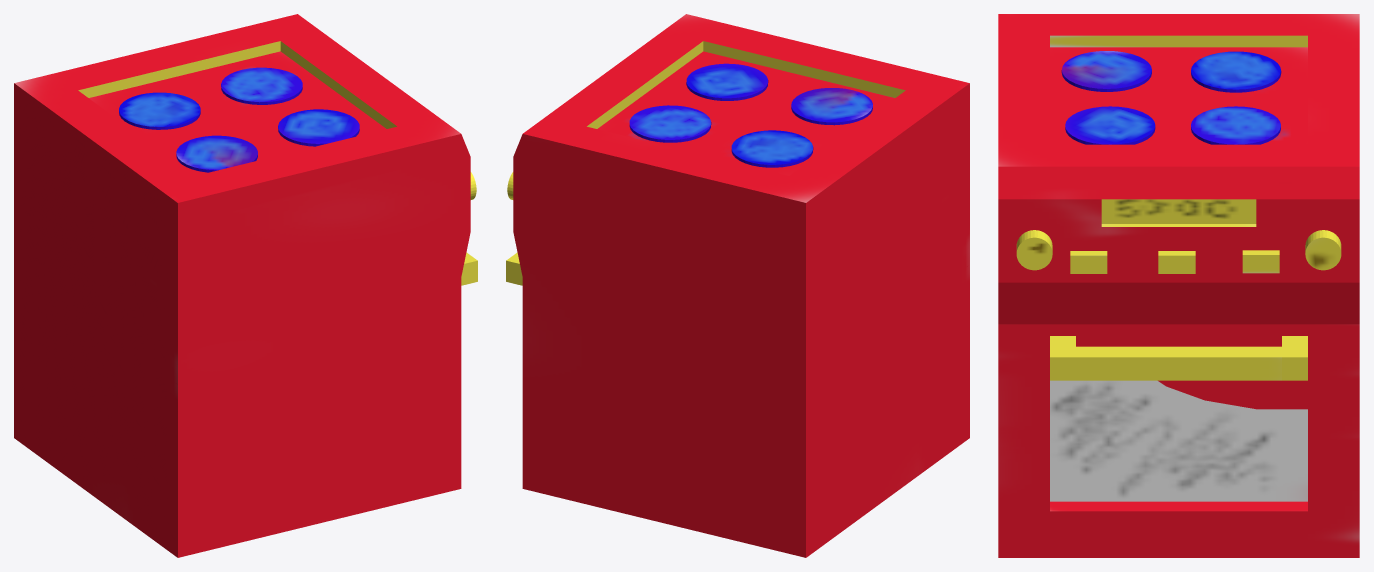
The model's file is ovenv1.fbx.
3 renders of one model, left to right at view 1: azimuth 30°, elevation 25°; view 2: azimuth 150°, elevation 25°; view 3: azimuth 270°, elevation 25°, orthographic. The views are drawn at different scales.
Parts seen in each view (by area): view 1: Cylinder.004; view 2: Cylinder.004; view 3: Cylinder.004.
Boxes of the visible parts, x1,y1,x2,y2 form: Cylinder.004: [14, 14, 477, 557]; Cylinder.004: [506, 14, 969, 557]; Cylinder.004: [998, 14, 1359, 557].
Bounding box in the file's own units: 228 × 239 × 200.
